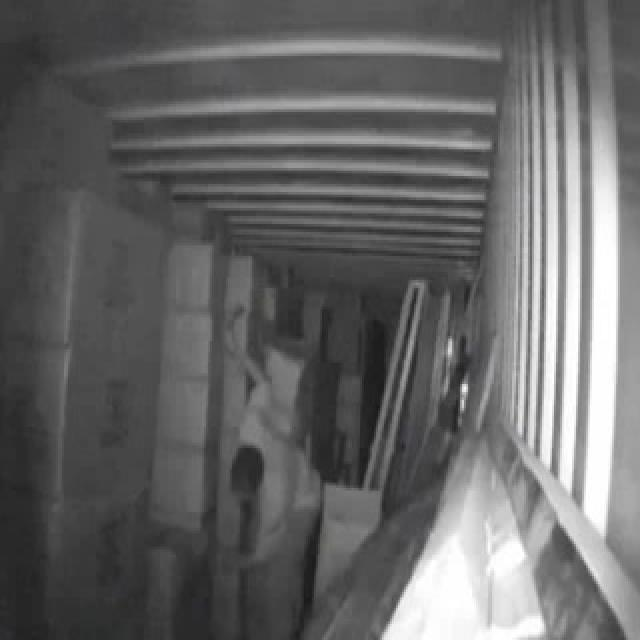thief: (204, 402, 314, 571)
